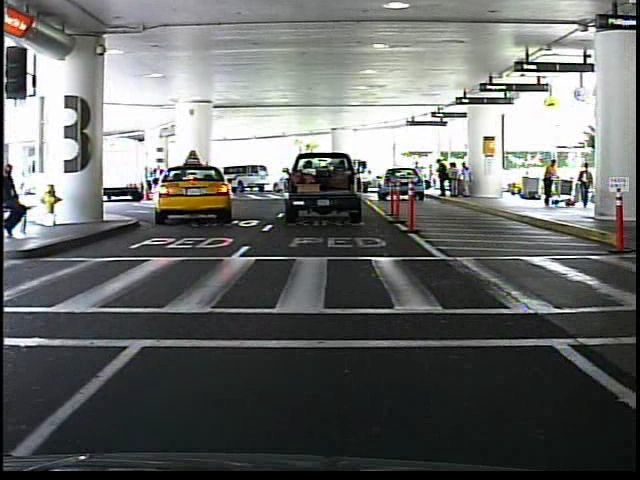person: (2, 161, 33, 238), (538, 154, 561, 210), (577, 159, 595, 212), (412, 160, 425, 192)
